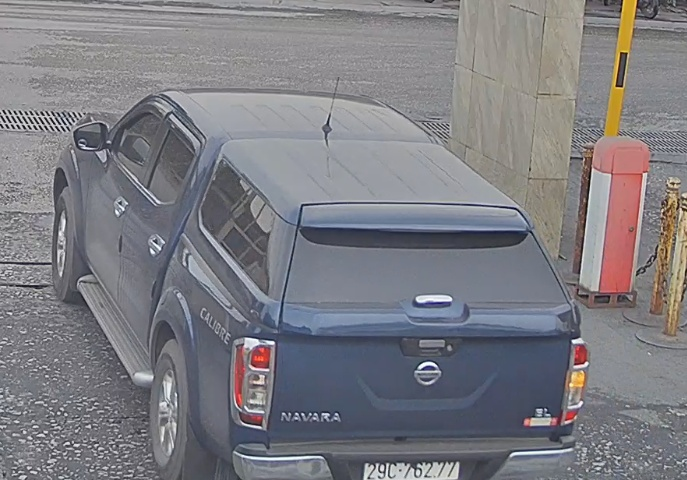vehicle plate: (363, 460, 467, 480)
